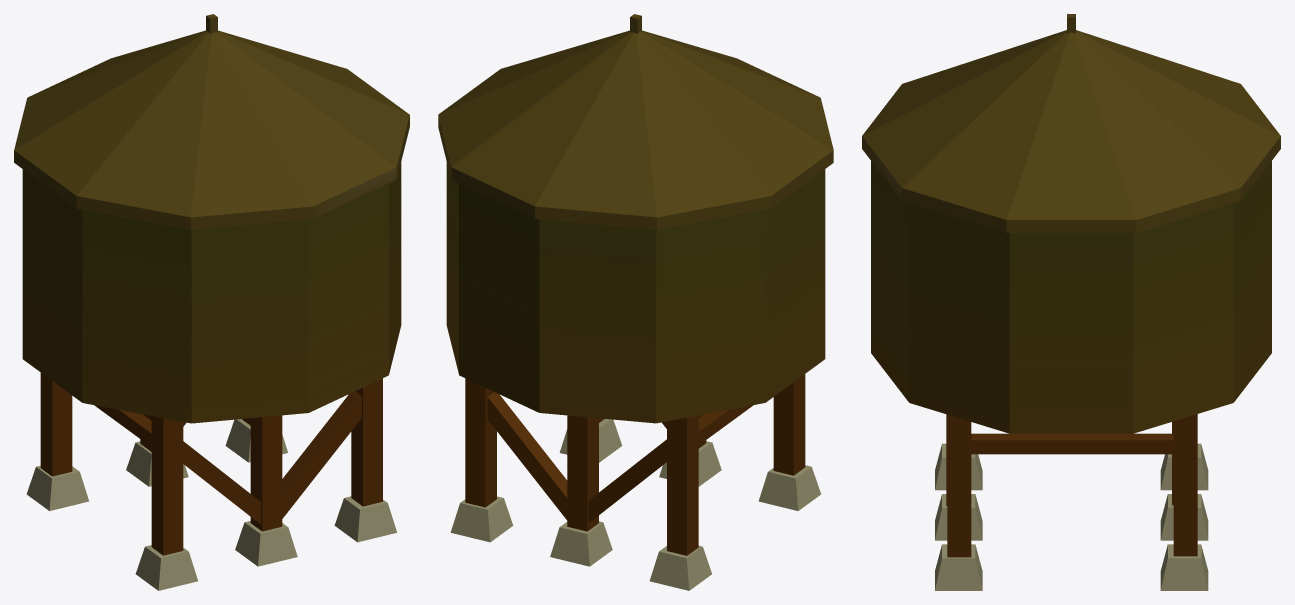
Rendered from WaterTower.fbx.
3 views of the same model, side by side, from view 1: azimuth 30°, elevation 25°; view 2: azimuth 150°, elevation 25°; view 3: azimuth 270°, elevation 25° (orthographic). The views are drawn at different scales.
Parts seen in each view (by area): view 1: Cylinder; view 2: Cylinder; view 3: Cylinder.
Part boxes in pixels (left/top/right/bottom): Cylinder: left=14, top=14, right=409, bottom=590; Cylinder: left=438, top=14, right=833, bottom=590; Cylinder: left=862, top=14, right=1280, bottom=590.
Size of the model in its own units: 317 by 452 by 334.
